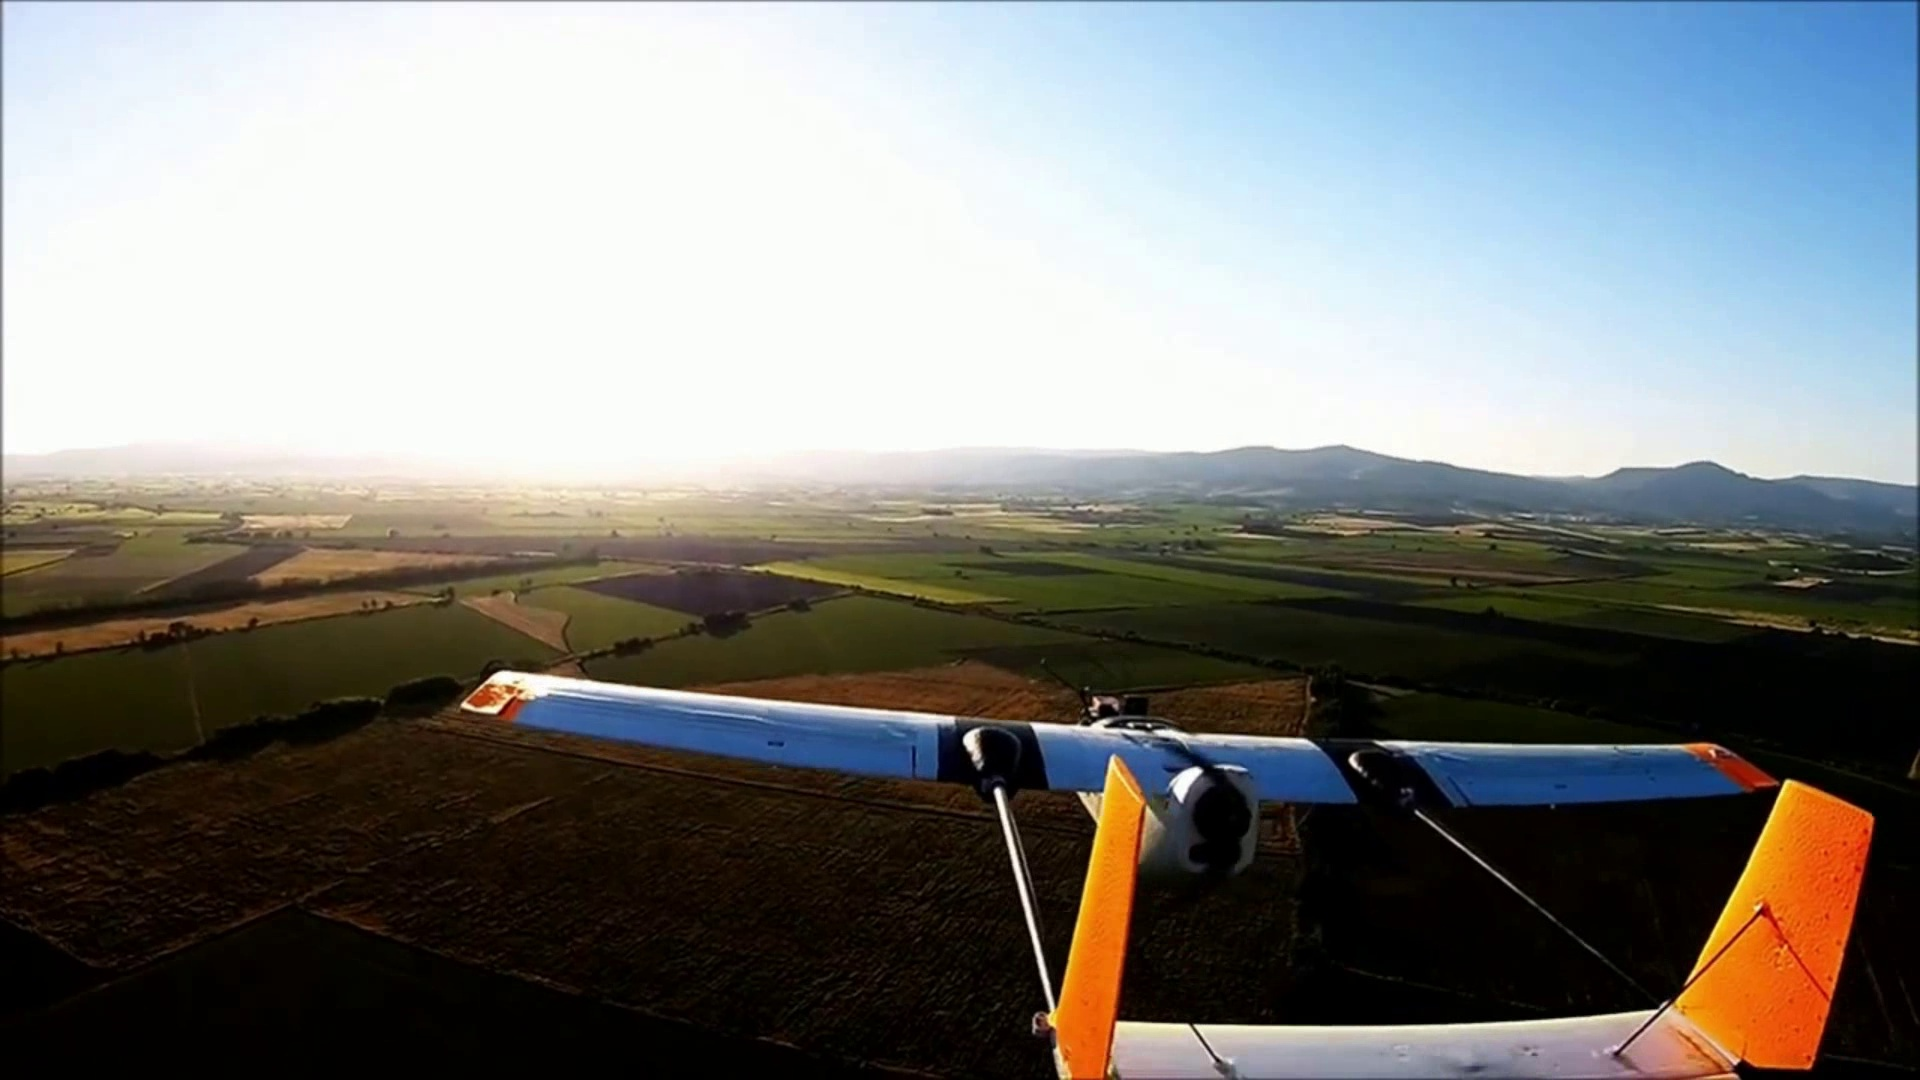airplane: (446, 670, 1906, 1067)
